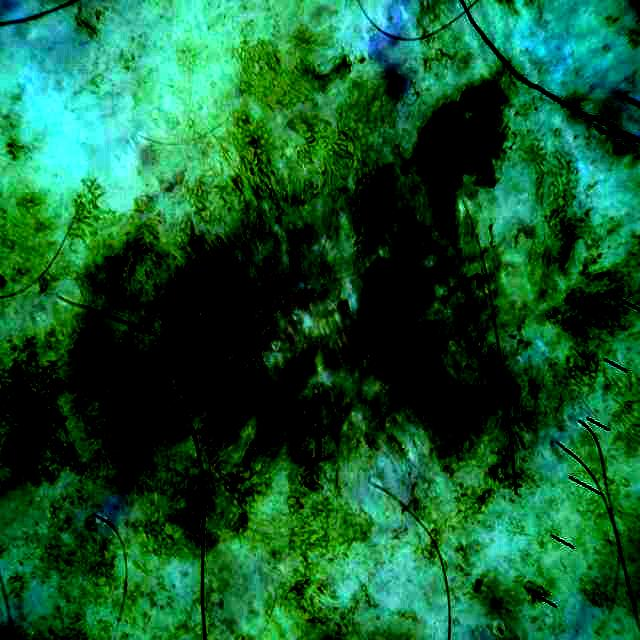BKL: (49, 201, 366, 514), (416, 80, 509, 244)
